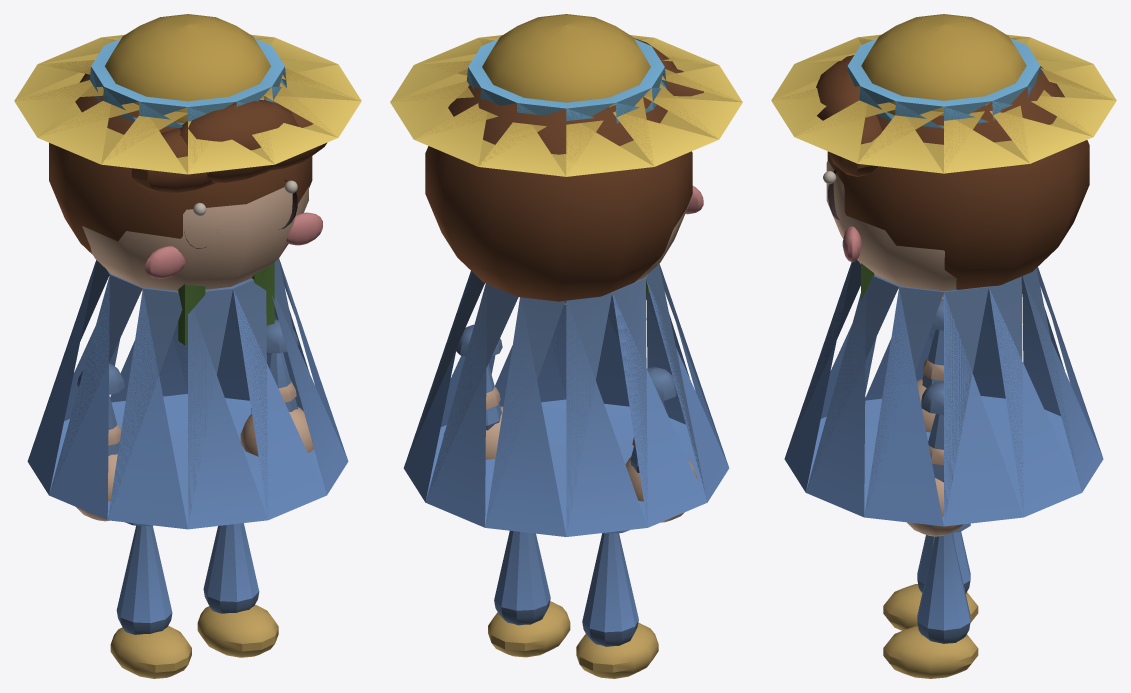
Rendered from boy-rest.glb.
3 views of the same model, side by side, from view 1: azimuth 30°, elevation 25°; view 2: azimuth 150°, elevation 25°; view 3: azimuth 270°, elevation 25° (orthographic). The views are drawn at different scales.
Visible parts, largest first — view 1: player_boy:rest; view 2: player_boy:rest; view 3: player_boy:rest.
Part boxes in pixels (x1,y1,x2,y2): player_boy:rest: [14, 14, 361, 678]; player_boy:rest: [390, 14, 742, 678]; player_boy:rest: [771, 14, 1116, 678].
Bounding box in the file's own units: 0.52 × 1.04 × 0.52.
